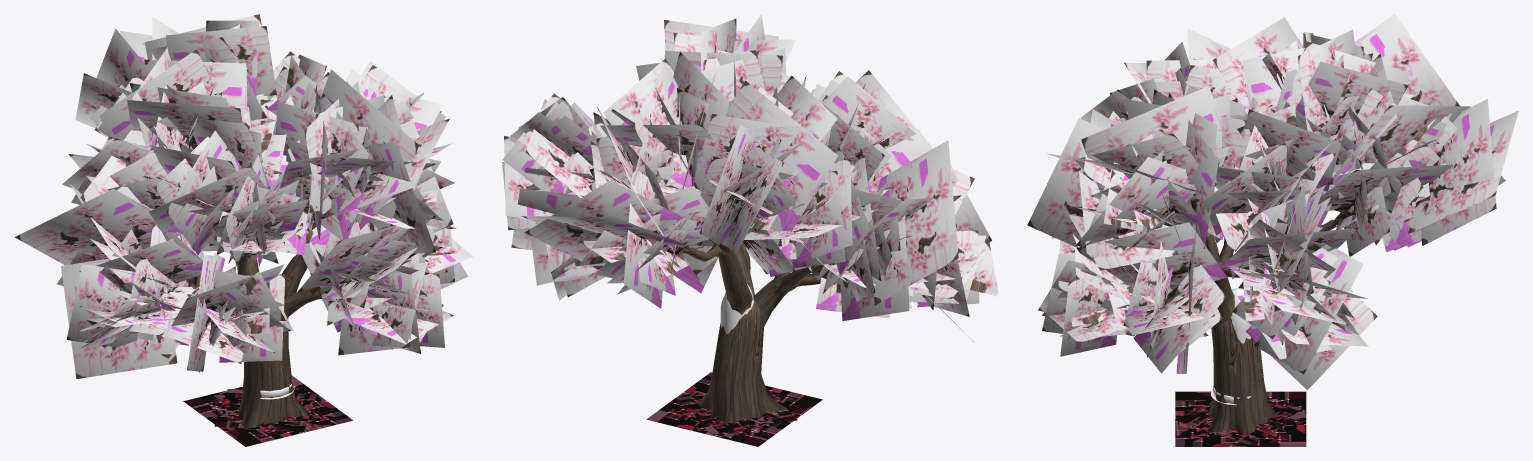
Rendered from cherry-tree.glb.
3 renders of one model, left to right at view 1: azimuth 30°, elevation 25°; view 2: azimuth 150°, elevation 25°; view 3: azimuth 270°, elevation 25°, orthographic. The views are drawn at different scales.
Visible parts, largest first — view 1: ub-mesh-1, ub-mesh-0 (×2); view 2: ub-mesh-1, ub-mesh-0 (×2); view 3: ub-mesh-1, ub-mesh-0 (×2).
Part boxes in pixels (x1=…): ub-mesh-1: x1=15, y1=14, x2=473, y2=429; ub-mesh-0 (×2): x1=183, y1=375, x2=353, y2=446; ub-mesh-1: x1=502, y1=14, x2=998, y2=423; ub-mesh-0 (×2): x1=646, y1=372, x2=822, y2=446; ub-mesh-1: x1=1027, y1=14, x2=1518, y2=434; ub-mesh-0 (×2): x1=1175, y1=391, x2=1306, y2=446.
Bounding box in the file's own units: 12.22 × 9.55 × 11.3.
Materials: 3 (2 with a texture image).
